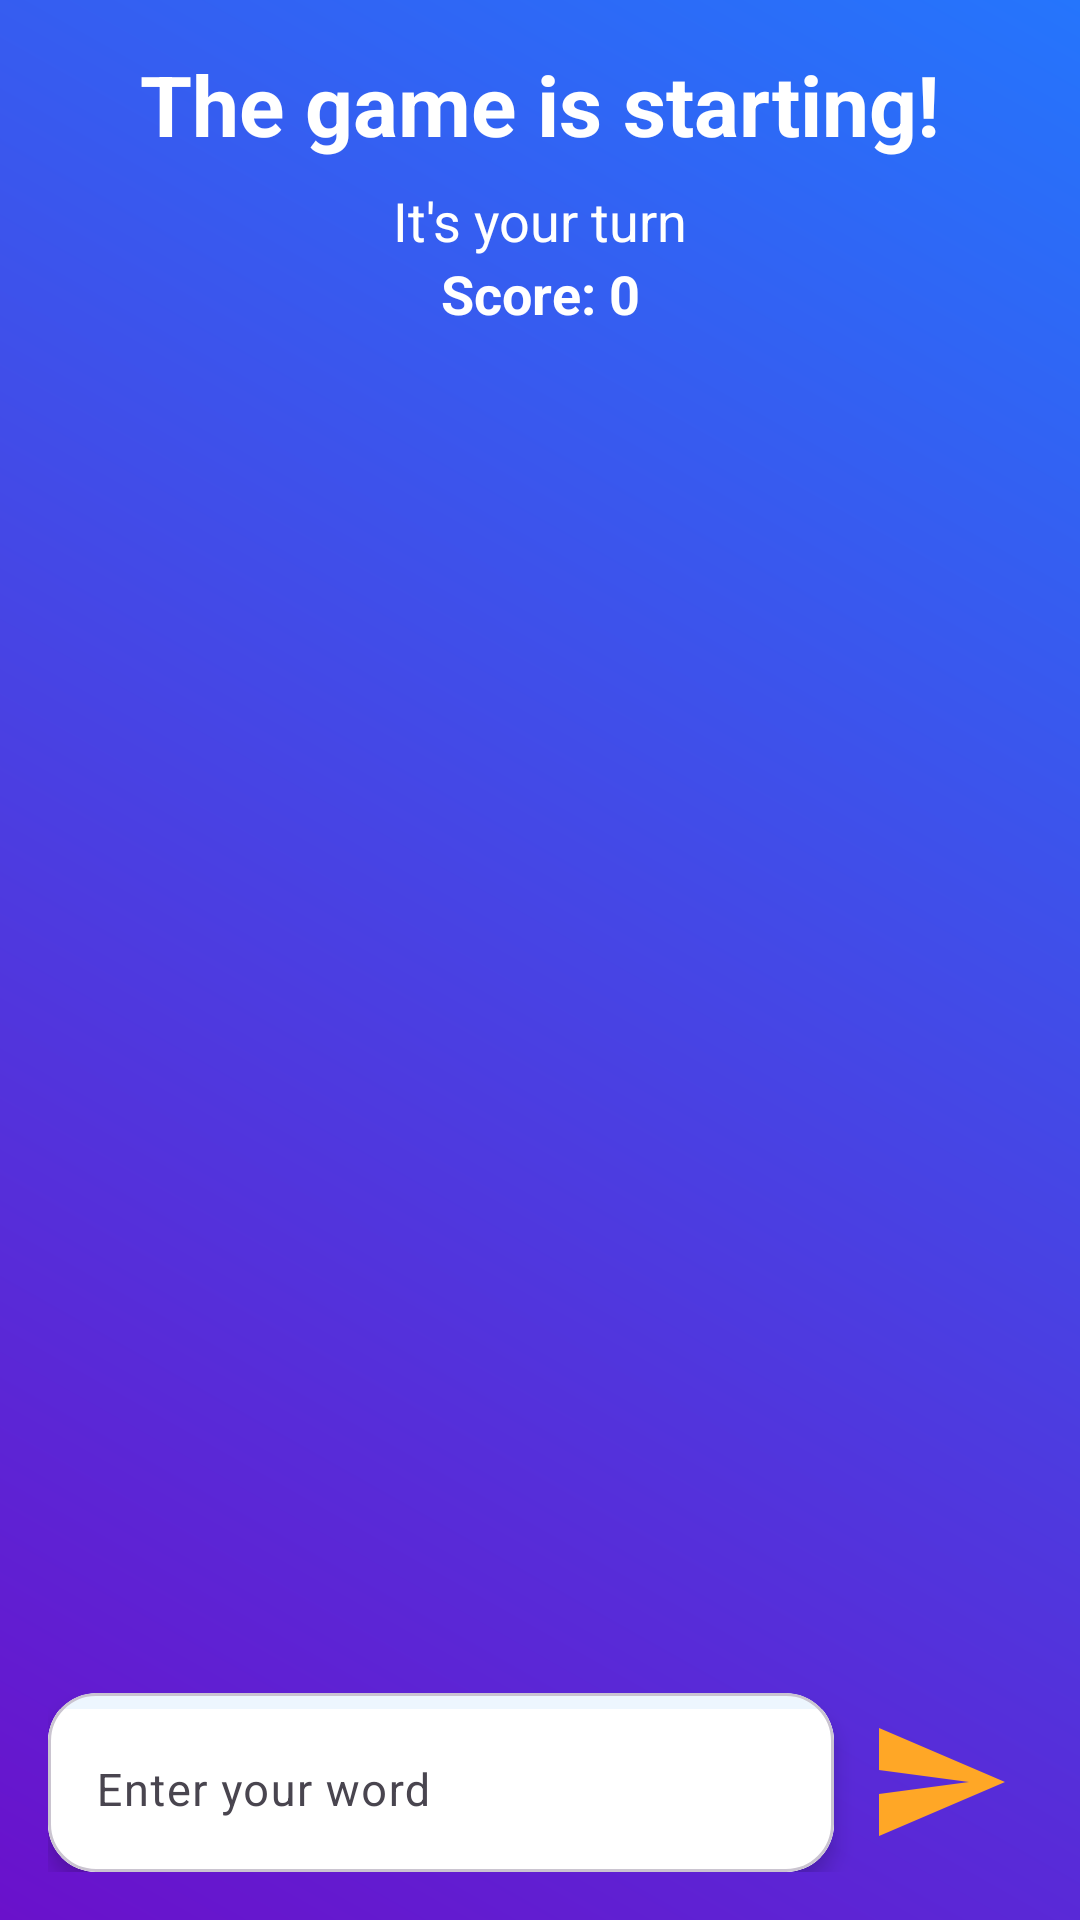

Screen size 1080x1920. Icon name, then its center in pixels as (x=x, y=y):
Sent: (x=942, y=1782)
